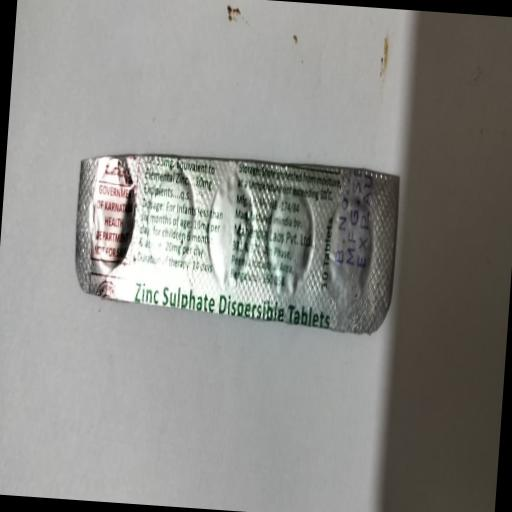Zinc-Sulphate-Dispersible-Tablets: (72, 130, 444, 402)
